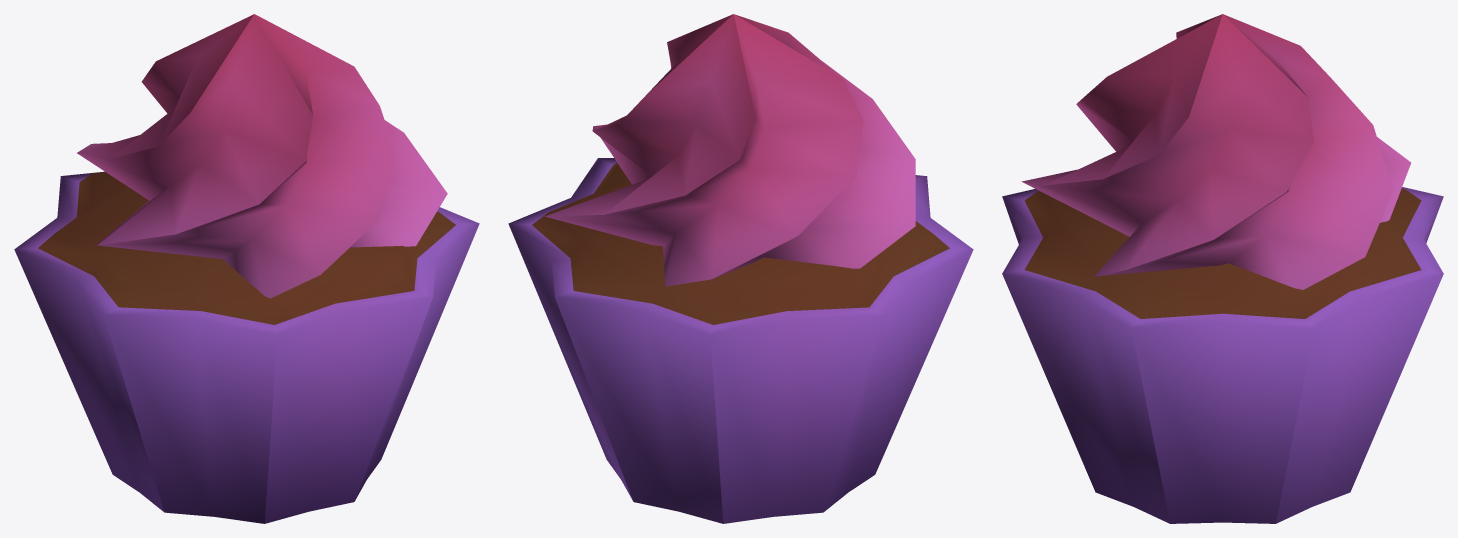
Rendered from CupcakePowerUp.fbx.
3 renders of one model, left to right at view 1: azimuth 30°, elevation 25°; view 2: azimuth 150°, elevation 25°; view 3: azimuth 270°, elevation 25°, orthographic.
Parts seen in each view (by area): view 1: CupcakePowerup; view 2: CupcakePowerup; view 3: CupcakePowerup.
Part boxes in pixels (x1,y1,x2,y2): CupcakePowerup: [14, 14, 479, 523]; CupcakePowerup: [508, 14, 973, 523]; CupcakePowerup: [1002, 14, 1443, 523].
Bounding box in the file's own units: 50 × 57.43 × 50.
